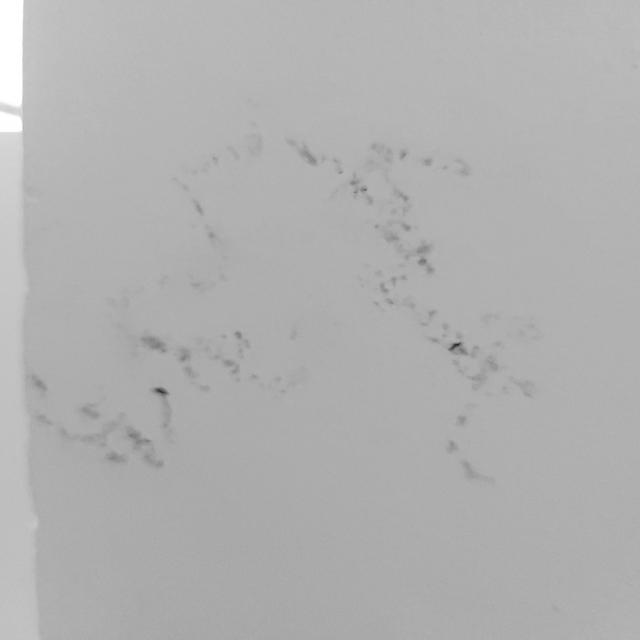stain marks: (25, 120, 548, 484)
